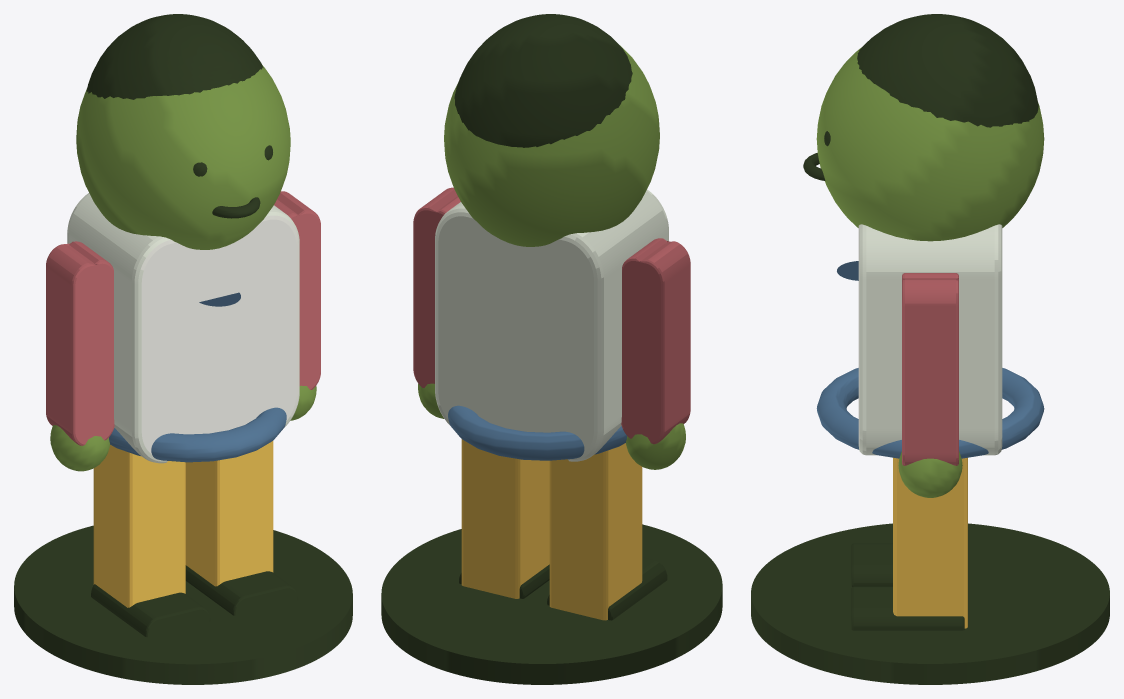
File: 1143_海底两万里_林肯号.glb
The picture shows the model from 3 angles, left to right: view 1: azimuth 30°, elevation 25°; view 2: azimuth 150°, elevation 25°; view 3: azimuth 270°, elevation 25°; orthographic projection.
Visible parts, largest first — view 1: card_1143; view 2: card_1143; view 3: card_1143.
Boxes of the visible parts, left/top/right/bottom form: card_1143: left=14, top=14, right=352, bottom=684; card_1143: left=381, top=14, right=722, bottom=684; card_1143: left=751, top=14, right=1109, bottom=684.
Bounding box in the file's own units: 0.5083 × 1 × 0.5425.
